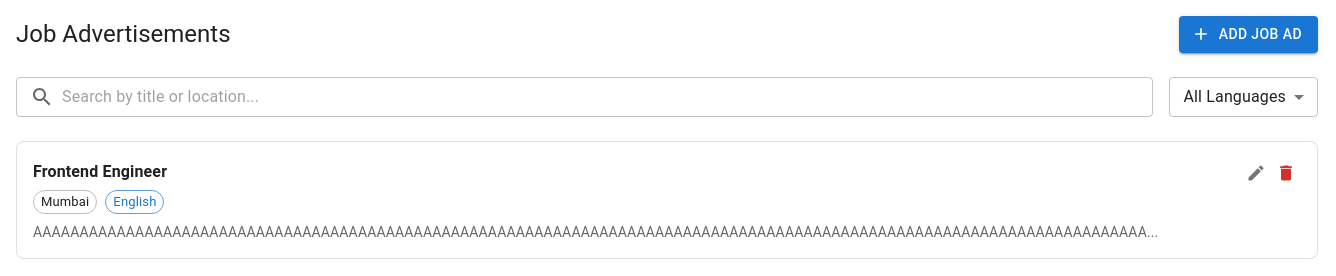
Test: JobAdsListPage › shows the no results message when no job ad matches the filter
Type "zzz" into the field with placeholder "Search by title or location..." at (608, 96), box [62,76,1154,116]
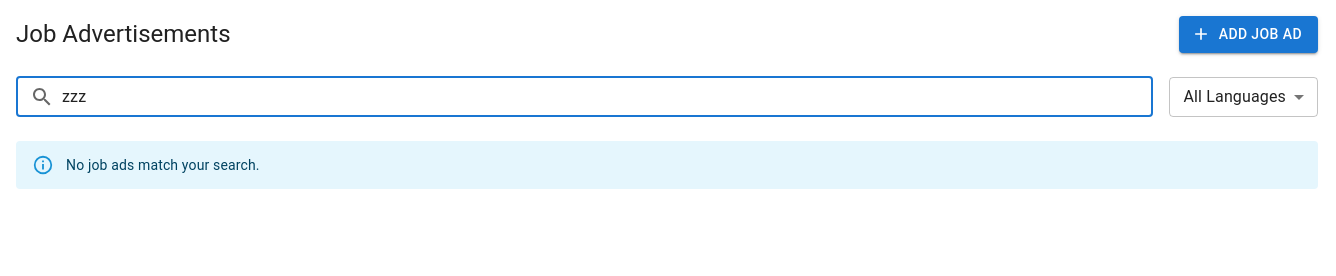
Result: the text "No job ads match your search." is shown at [66,156,260,172]
